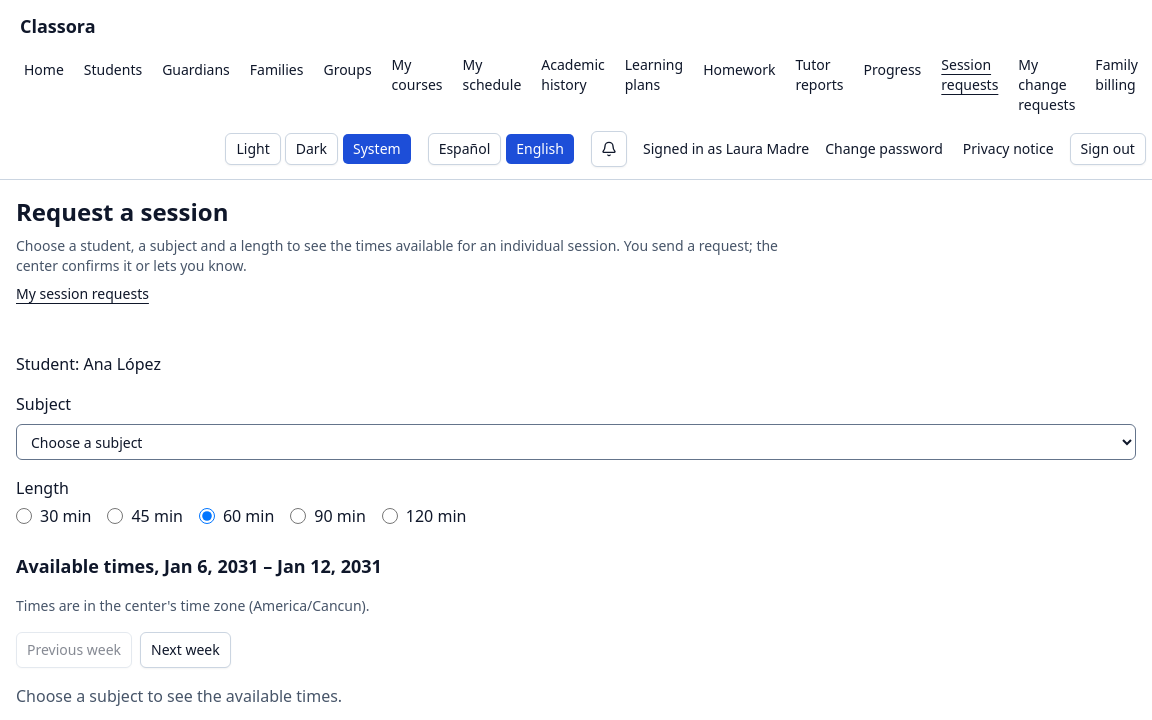
Test case: /requests/new › closing the dialog returns the focus to the slot
Select "Física" in the dropdown labelled "Subject". click: (576, 442)
box: [16,424,1136,460]
(page scrolled)
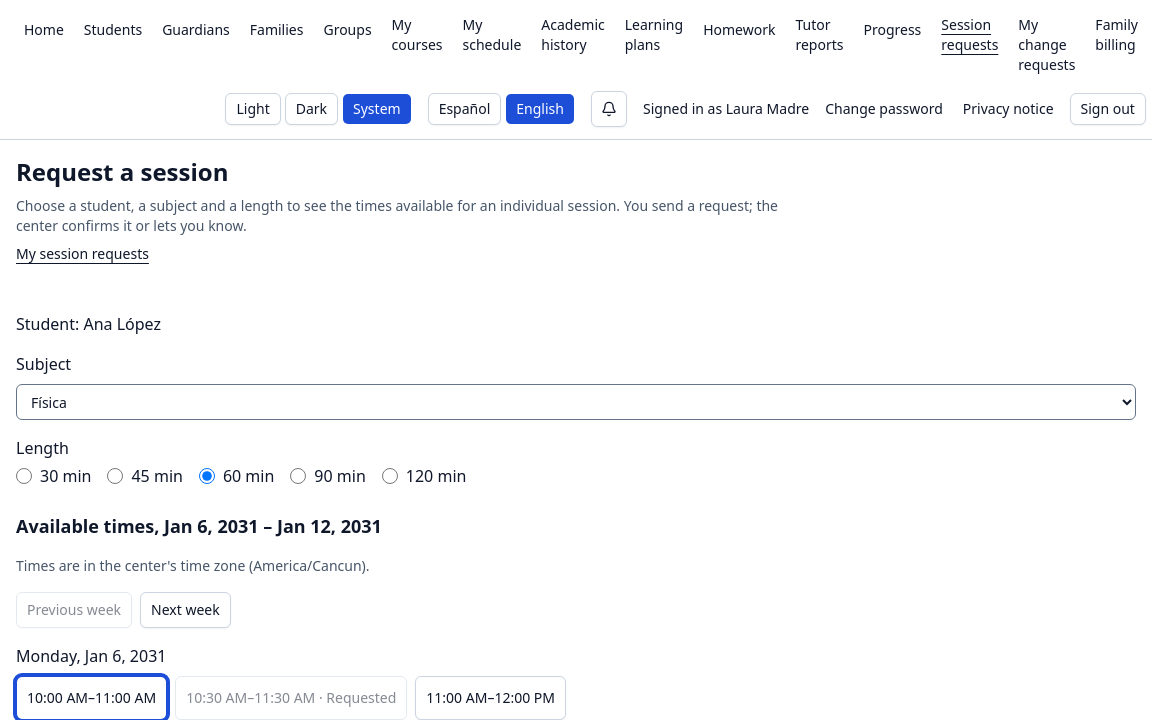
Click the button "10:00 AM–11:00 AM". click: (92, 698)
box: [16,676,167,719]
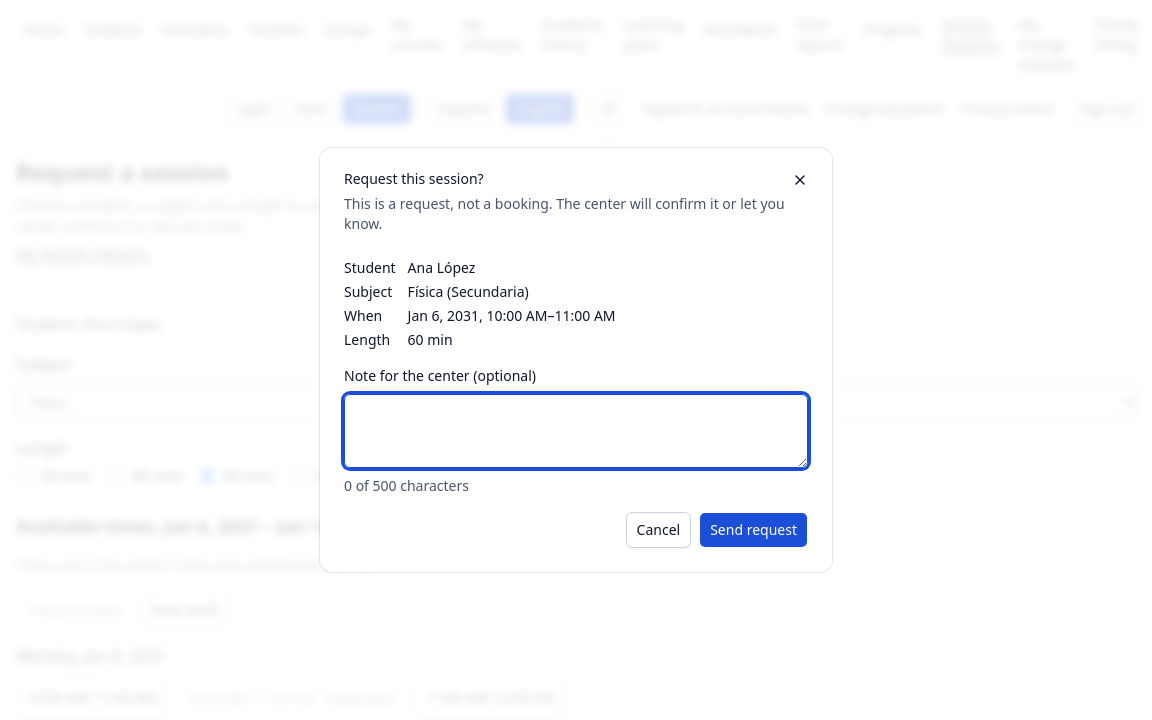
Click the button "Cancel". click: (658, 530)
box: [626,512,691,548]
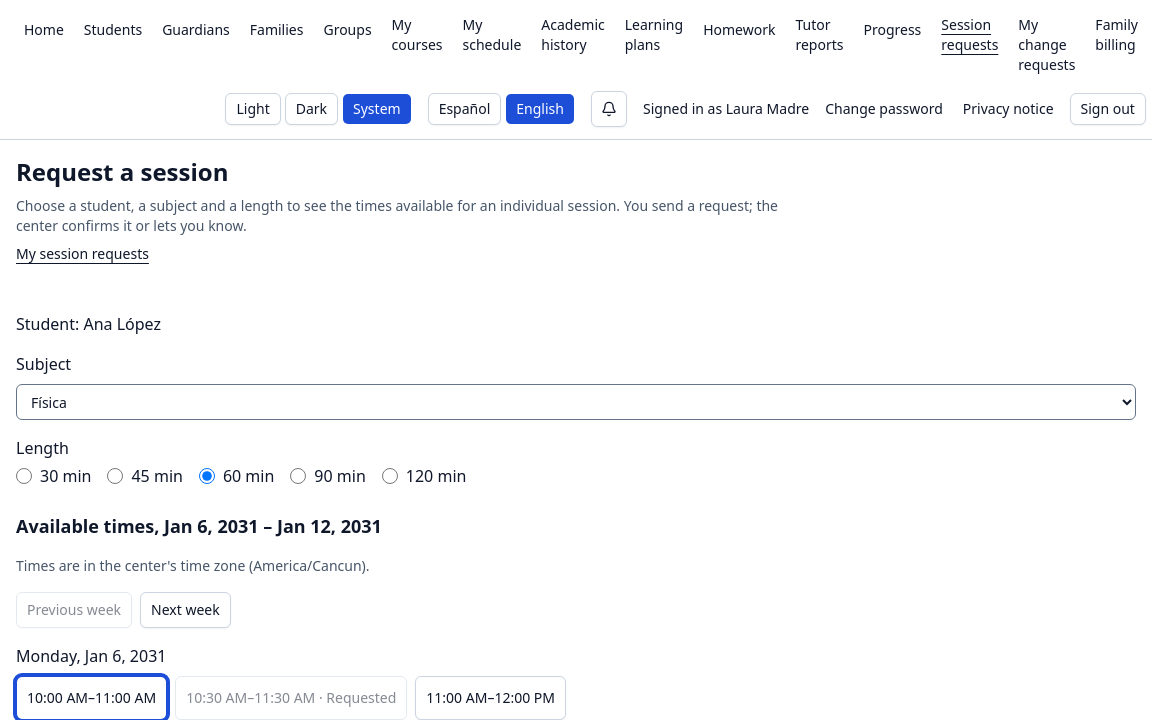
Expected: the dialog is gone
